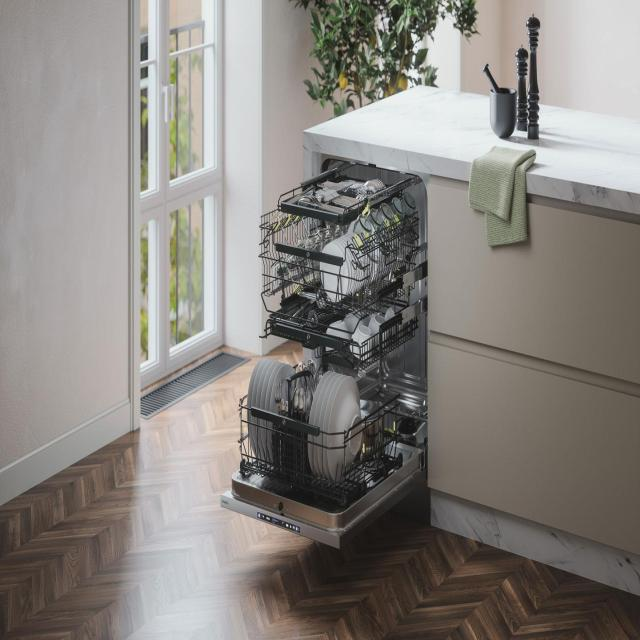dishwasher: (224, 157, 428, 542)
